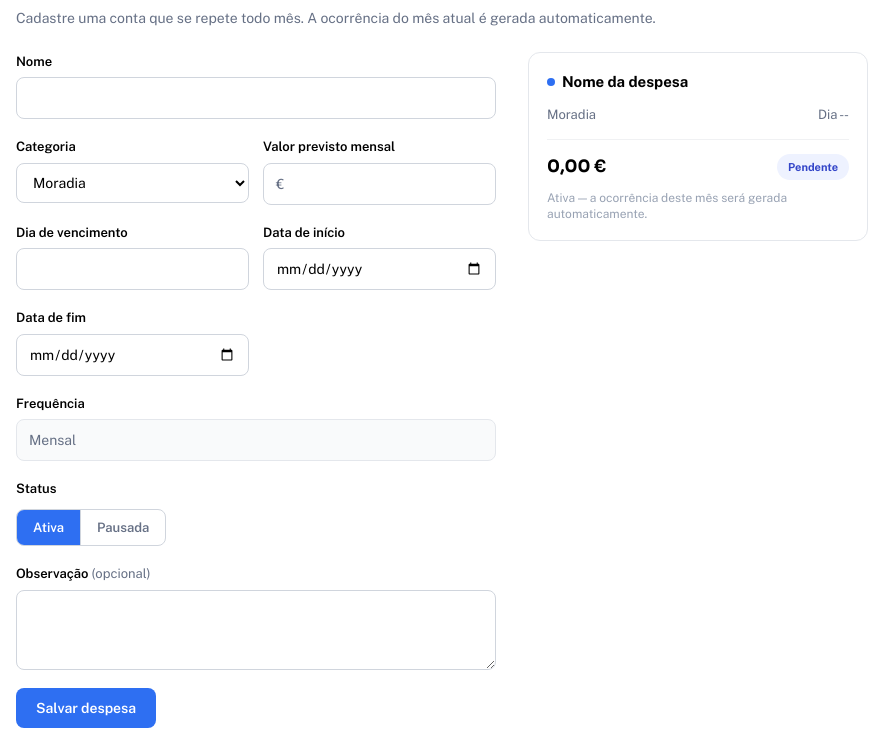
Scenario: CadastroDespesaRecorrenteComponent › reveals every invalid field at once and blocks submission when multiple fields are invalid (US3-6, FR-011, SC-002)
(page scrolled)
What coordinates should you click on to do the following:
click the button with test id "salvar-btn"
I would click on:
 (86, 708)
Its box is [16,688,156,728].
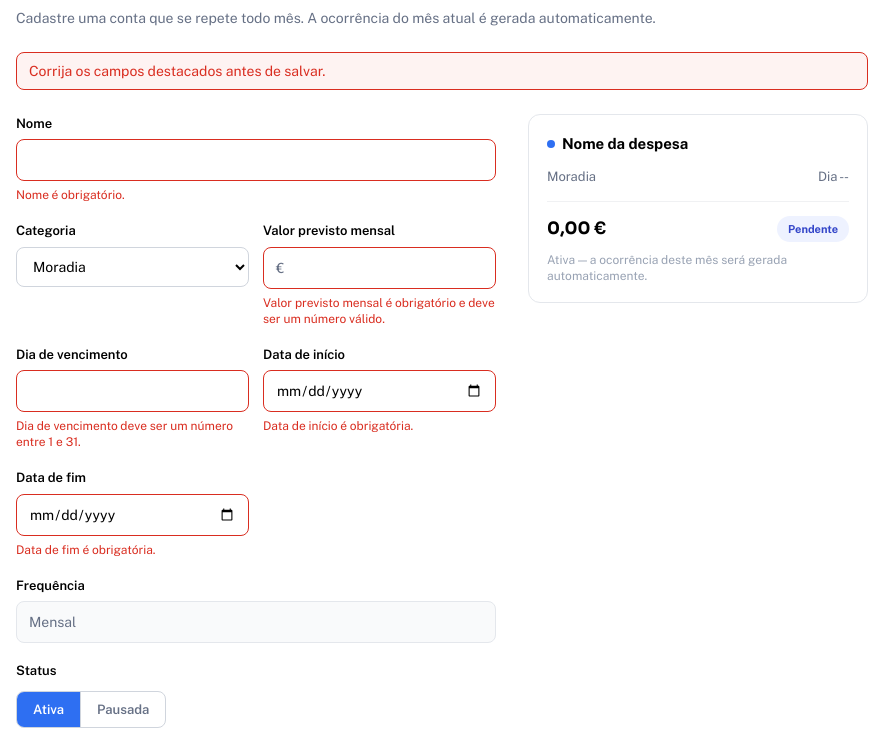
Check: the message "Nome é obrigatório." is shown, box [16,188,125,202]
Check: the message "Valor previsto mensal é obrigatório e deve ser um número válido." is shown, box [263,294,496,326]
Check: the message "Dia de vencimento deve ser um número entre 1 e 31." is shown, box [16,418,249,450]
